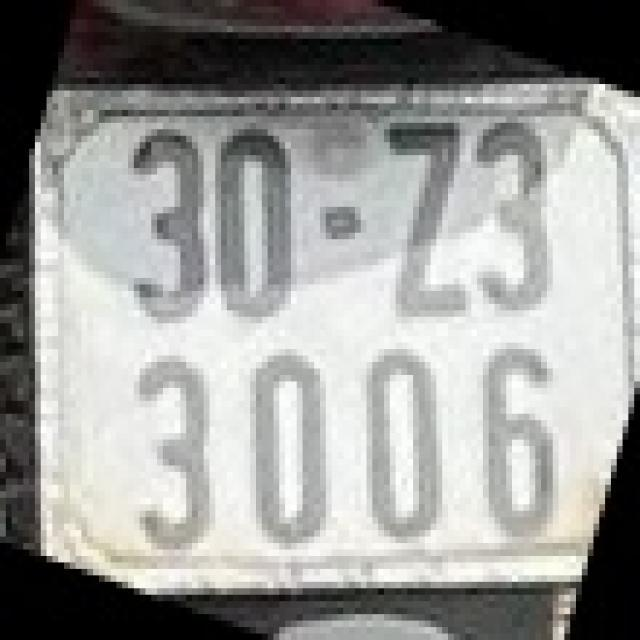0: (210, 122, 302, 324), (361, 342, 448, 544), (244, 349, 332, 543)
3: (128, 350, 221, 550), (471, 117, 559, 310), (128, 122, 209, 324)
6: (476, 342, 564, 536)
Z: (378, 116, 471, 317)
